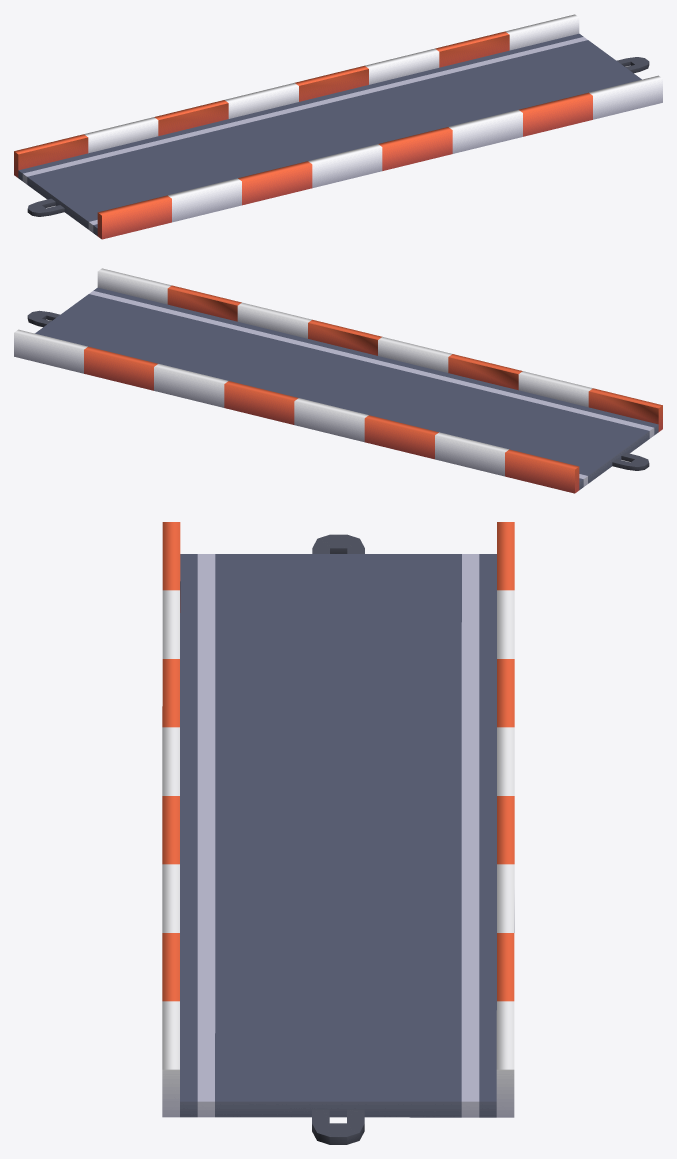
Rendered from track-road-wide-straight.010_lev1.glb.
3 renders of one model, top to bottom at view 1: azimuth 30°, elevation 25°; view 2: azimuth 150°, elevation 25°; view 3: azimuth 270°, elevation 25°, orthographic. The views are drawn at different scales.
Parts seen in each view (by area): view 1: track-road-wide-straight.010_lev1; view 2: track-road-wide-straight.010_lev1; view 3: track-road-wide-straight.010_lev1.
Boxes of the visible parts, x1,y1,x2,y2 form: track-road-wide-straight.010_lev1: (14, 14, 662, 239); track-road-wide-straight.010_lev1: (14, 268, 662, 493); track-road-wide-straight.010_lev1: (162, 522, 514, 1144).
Size of the model in its own units: 8.09 by 0.3 by 2.
1 material, 1 textured.
